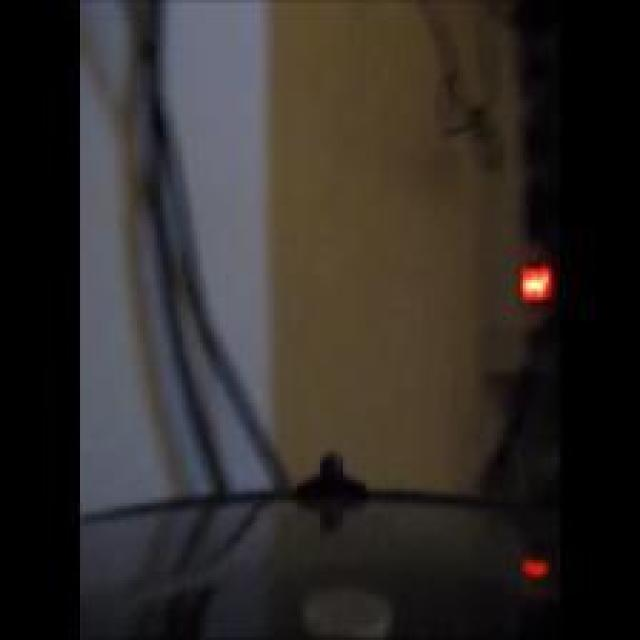other: (514, 245, 574, 325), (491, 548, 566, 585)
